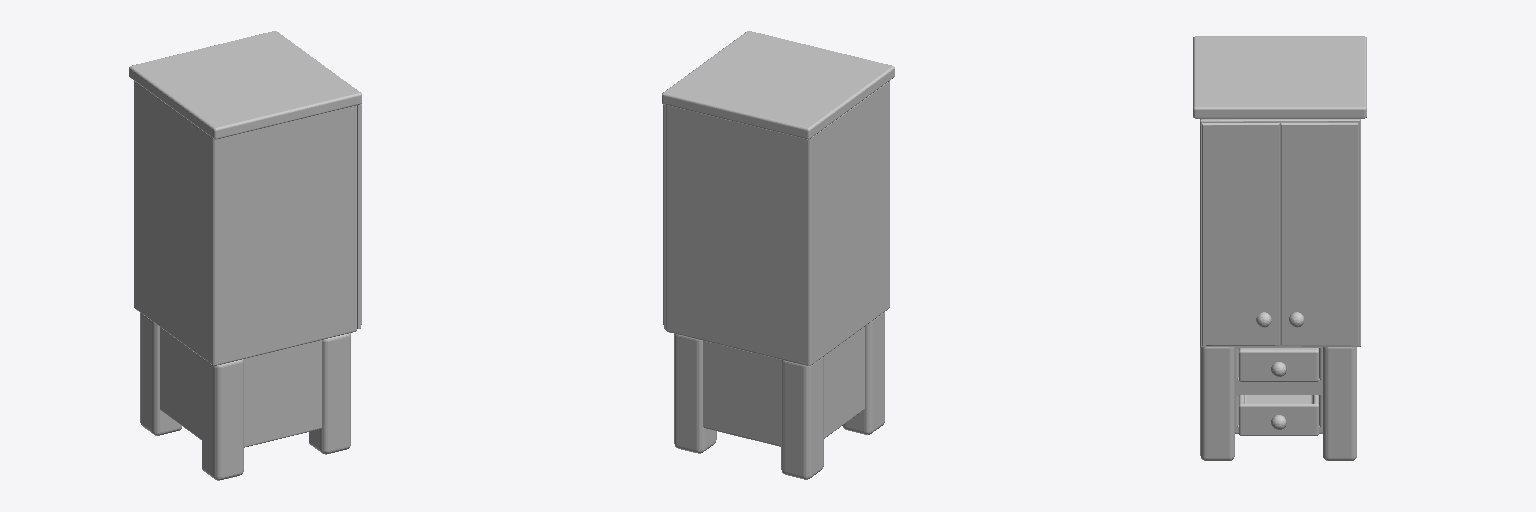
The model's file is simple_library_A.obj.
3 views of the same model, side by side, from view 1: azimuth 30°, elevation 25°; view 2: azimuth 150°, elevation 25°; view 3: azimuth 270°, elevation 25° (orthographic).
Parts seen in each view (by area): view 1: simple_library_A; view 2: simple_library_A; view 3: simple_library_A.
Boxes of the visible parts, x1=… form: simple_library_A: x1=129, y1=31, x2=361, y2=480; simple_library_A: x1=662, y1=31, x2=894, y2=479; simple_library_A: x1=1193, y1=36, x2=1366, y2=460.
Bounding box in the file's own units: 0.7279 × 1.47 × 0.6469.